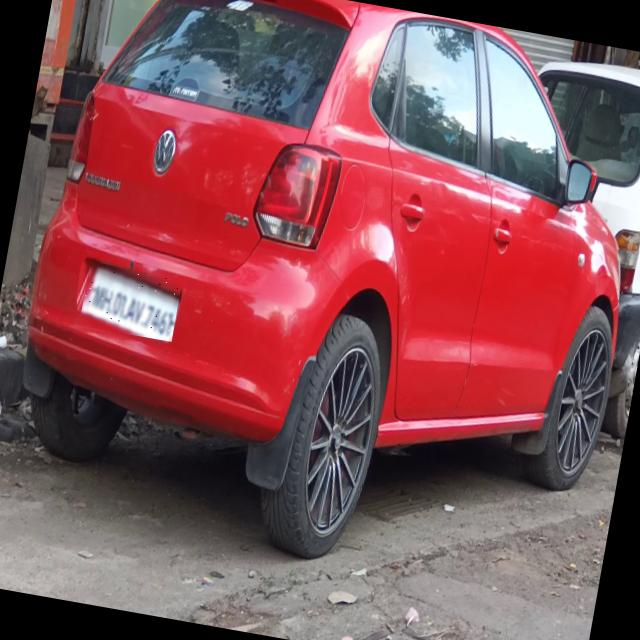Plate: (80, 264, 184, 343)
